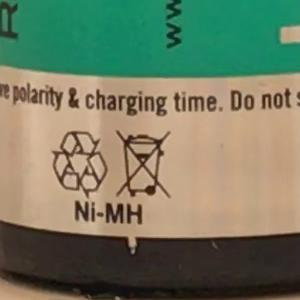NI-MH: (65, 193, 152, 232)
